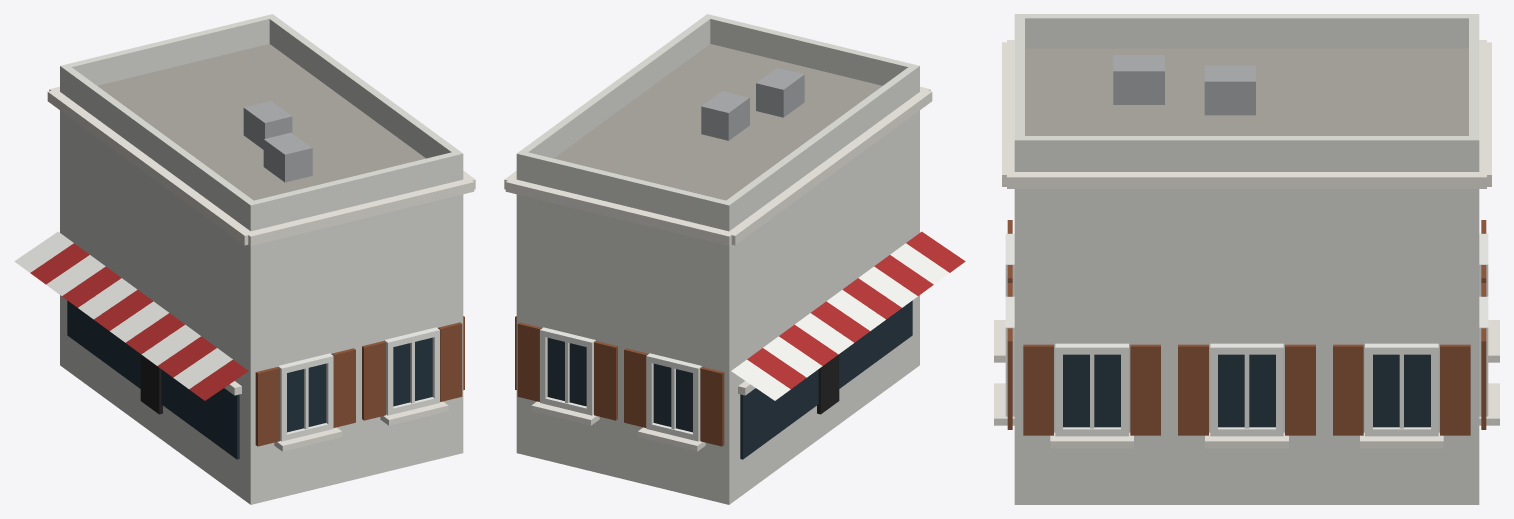
3 views of the same model, side by side, from view 1: azimuth 30°, elevation 25°; view 2: azimuth 150°, elevation 25°; view 3: azimuth 270°, elevation 25° (orthographic). The views are drawn at different scales.
Visible parts, largest first — view 1: b9969; view 2: b9969; view 3: b9969.
Boxes of the visible parts, <box> form: b9969: <box>14,14,475,504</box>; b9969: <box>504,14,965,504</box>; b9969: <box>994,14,1499,504</box>.
Size of the model in its own units: 2979 by 3152 by 3924.
